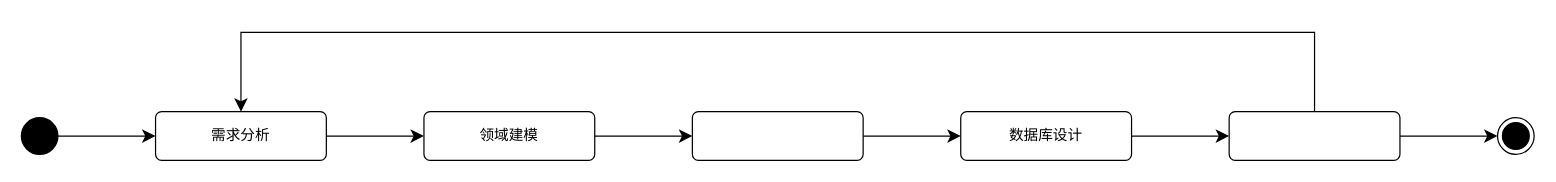
This 1556x182 diagram has some shape labels left out. The centre of each missing label's shape, as x and y in pixels:
"代码实现" belongs at point (1314, 135).
"架构设计" belongs at point (777, 135).
